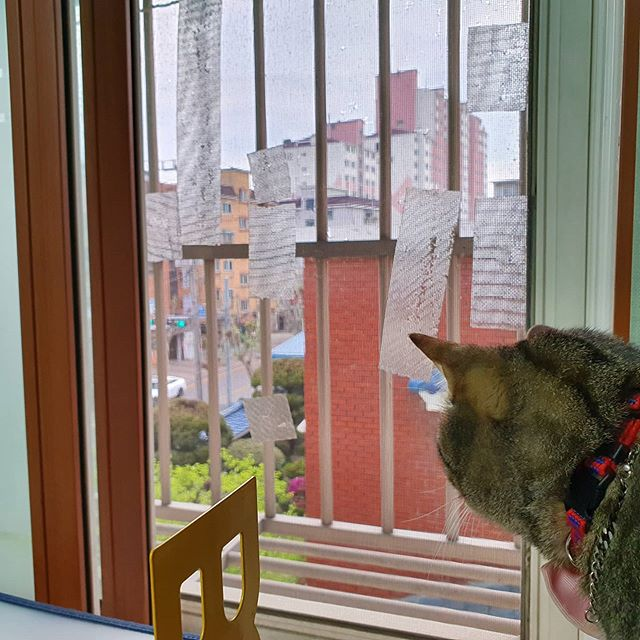cat: (409, 317, 640, 568)
